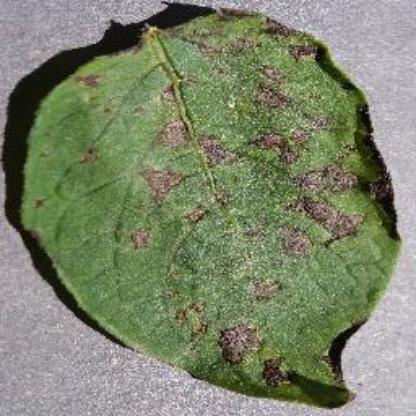Early-Blight: (22, 7, 402, 409)
